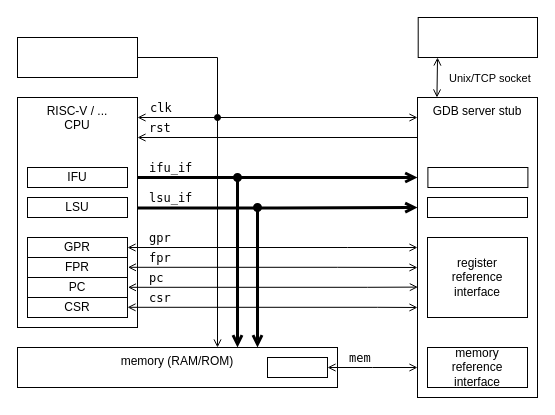
The diagram is 555 pixels wide and 415 high, and some of its shapes have lost their labels. The centre of each missing label's shape, as x and y in pixels:
array: point (297, 367)
breakpoint mon.: point (477, 177)
clock source: point (77, 57)
GDB/LLDB: point (477, 37)
watchpoint mon.: point (477, 207)
